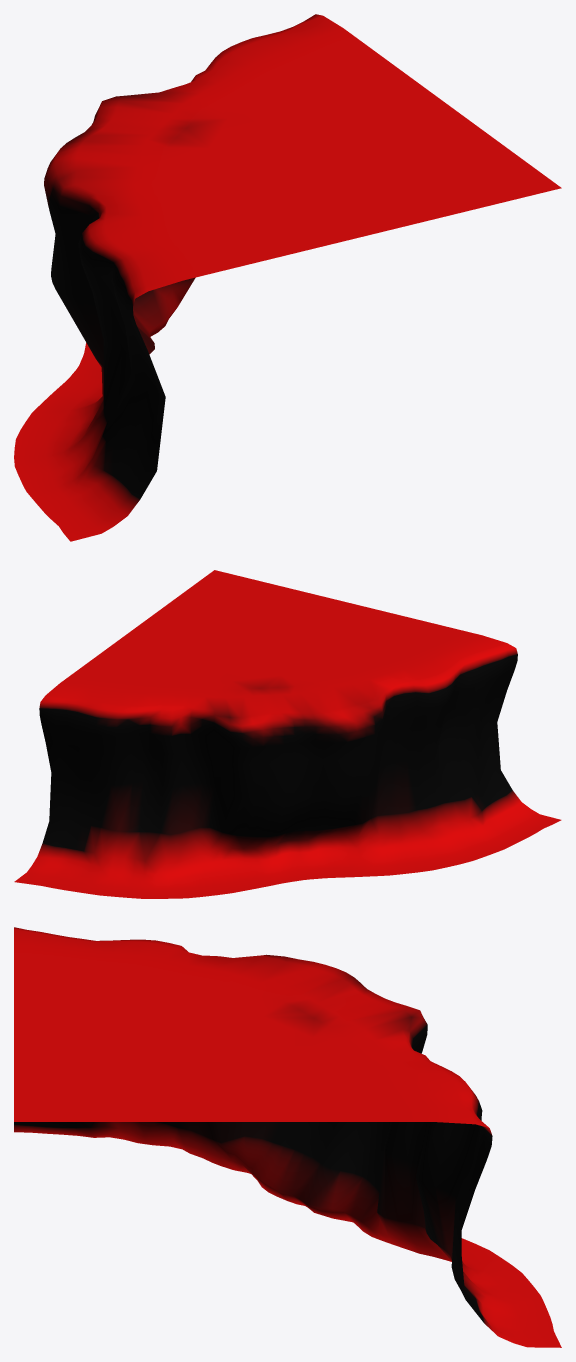
The model's file is GroundCliff03D 1M Foreground.fbx.
3 views of the same model, one above another, from view 1: azimuth 30°, elevation 25°; view 2: azimuth 150°, elevation 25°; view 3: azimuth 270°, elevation 25° (orthographic). The views are drawn at different scales.
Parts seen in each view (by area): view 1: GroundCliff03D 1M Foreground; view 2: GroundCliff03D 1M Foreground; view 3: GroundCliff03D 1M Foreground.
Boxes of the visible parts, x1,y1,x2,y2 form: GroundCliff03D 1M Foreground: (14, 14, 561, 541); GroundCliff03D 1M Foreground: (14, 570, 561, 898); GroundCliff03D 1M Foreground: (14, 927, 561, 1347).
Bounding box in the file's own units: 2.2 × 1 × 2.2.
